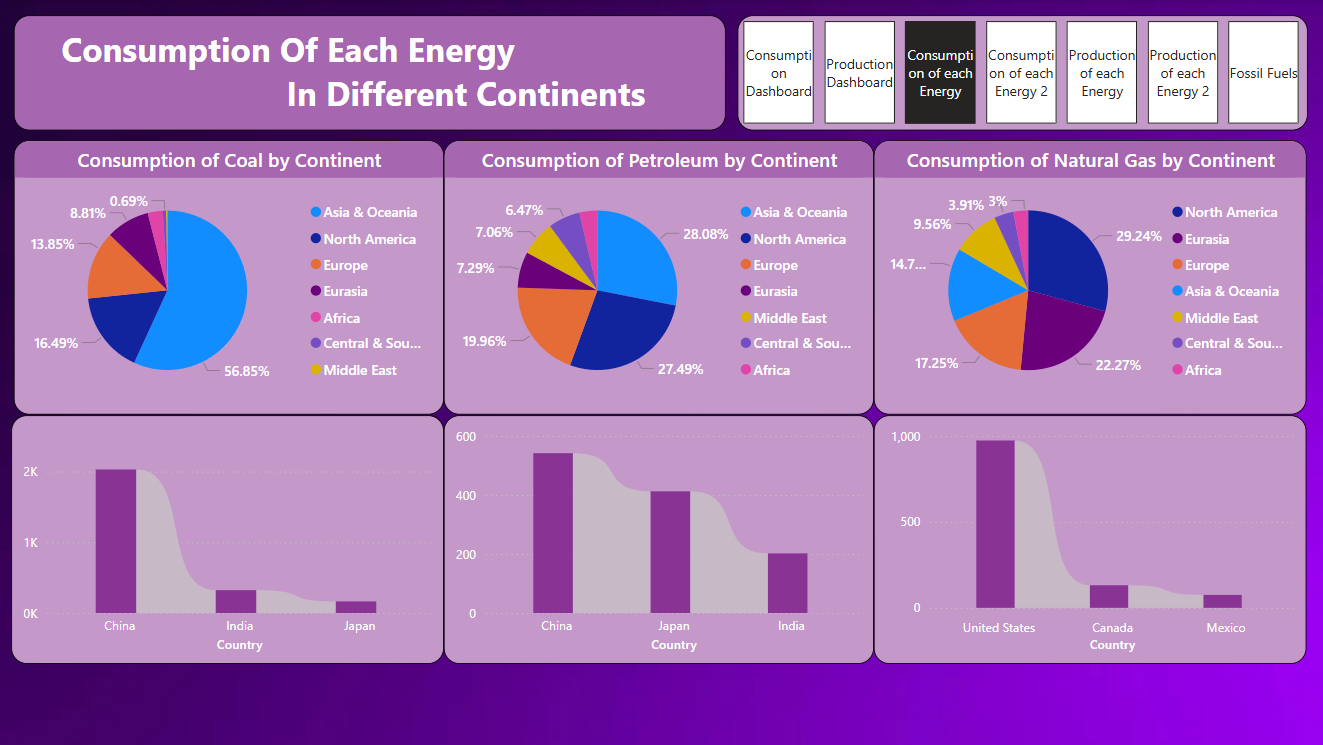

The dashboard page shown, as its layout file describes it:
{"tool":"powerbi","page":{"name":"Consumption of each Energy","canvas":[1280,720],"ordinal":2},"visuals":[{"type":"pieChart","title":"Consumption of Petroleum by Continent","fields":{"Category":["Consumption_Coal.Continent"],"Y":["Sum(Consumption_Petroleum.Consumption_Petrolium)"]},"box":[428.8,136.2,415,265],"z":0},{"type":"pieChart","title":"Consumption of Coal by Continent","fields":{"Category":["Consumption_Coal.Continent"],"Y":["Sum(Consumption_Coal.Consumption_Coal)"]},"box":[13.8,136.2,415,265],"z":1000},{"type":"pieChart","title":"Consumption of Natural Gas by Continent","fields":{"Category":["Consumption_Coal.Continent"],"Y":["Sum(Consumption_NaturalGas.Consumption_NaturalGas)"]},"box":[843.8,136.2,417.5,265],"z":2000},{"type":"ribbonChart","title":"Total Consumption by Country","fields":{"Category":["Consumption_NaturalGas.Country"],"Y":["Sum(Consumption_Petroleum.Consumption_Petrolium)"]},"box":[428.8,401.2,415,240],"z":3000},{"type":"ribbonChart","title":"Total Consumption by Country","fields":{"Category":["Consumption_NaturalGas.Country"],"Y":["Sum(Consumption_Coal.Consumption_Coal)"]},"box":[11.2,401.2,417.5,240],"z":4000},{"type":"ribbonChart","title":"Total Consumption by Country","fields":{"Y":["Sum(Consumption_NaturalGas.Consumption_NaturalGas)"],"Category":["Consumption_NaturalGas.Country"]},"box":[843.8,401.2,417.5,240],"z":5000},{"type":"textbox","box":[13.8,16.2,687.5,111.2],"z":6000},{"type":"pageNavigator","box":[711.2,16.2,550,111.2],"z":7000}]}

Visuals, with their boxes in screenshot pixels (x1, y1, x2, y2), scaled from the page's 1280x720 canvas onto the 1323x745 screenshot:
"Consumption of Petroleum by Continent" pieChart: {"x1": 443, "y1": 141, "x2": 872, "y2": 415}
"Consumption of Coal by Continent" pieChart: {"x1": 14, "y1": 141, "x2": 443, "y2": 415}
"Consumption of Natural Gas by Continent" pieChart: {"x1": 872, "y1": 141, "x2": 1304, "y2": 415}
"Total Consumption by Country" ribbonChart: {"x1": 443, "y1": 415, "x2": 872, "y2": 663}
"Total Consumption by Country" ribbonChart: {"x1": 12, "y1": 415, "x2": 443, "y2": 663}
"Total Consumption by Country" ribbonChart: {"x1": 872, "y1": 415, "x2": 1304, "y2": 663}
textbox: {"x1": 14, "y1": 17, "x2": 725, "y2": 132}
pageNavigator: {"x1": 735, "y1": 17, "x2": 1304, "y2": 132}
